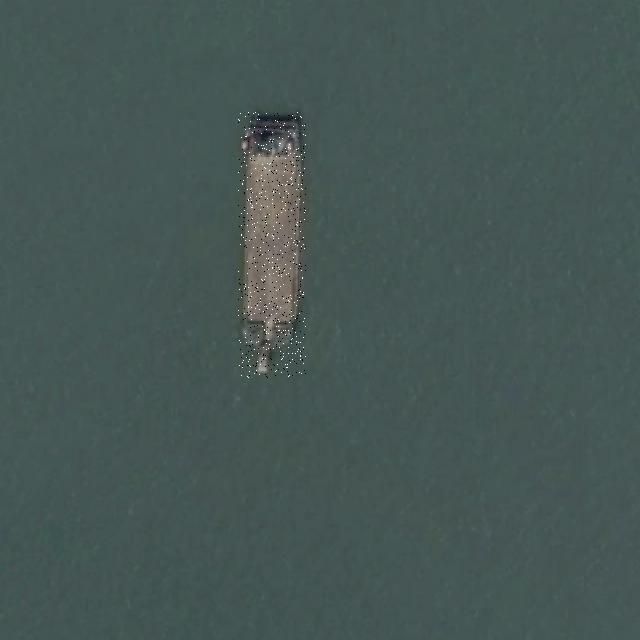boat: (238, 112, 306, 378)
